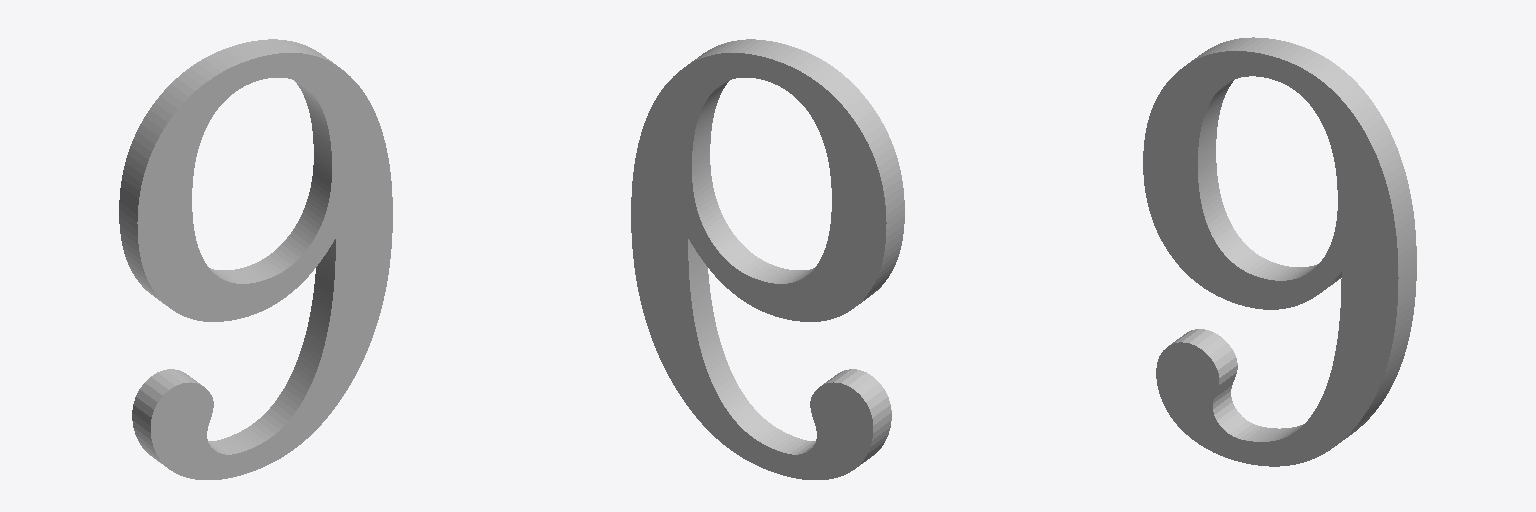
The picture shows the model from 3 angles: view 1: azimuth 30°, elevation 25°; view 2: azimuth 150°, elevation 25°; view 3: azimuth 330°, elevation 25°; orthographic projection.
Parts seen in each view (by area): view 1: mmGroup0.007; view 2: mmGroup0.007; view 3: mmGroup0.007.
Part boxes in pixels (x1,y1,x2,y2): mmGroup0.007: (119, 39, 392, 479); mmGroup0.007: (631, 39, 904, 479); mmGroup0.007: (1143, 37, 1416, 466).
Bounding box in the file's own units: 4.82 × 7.46 × 0.6.